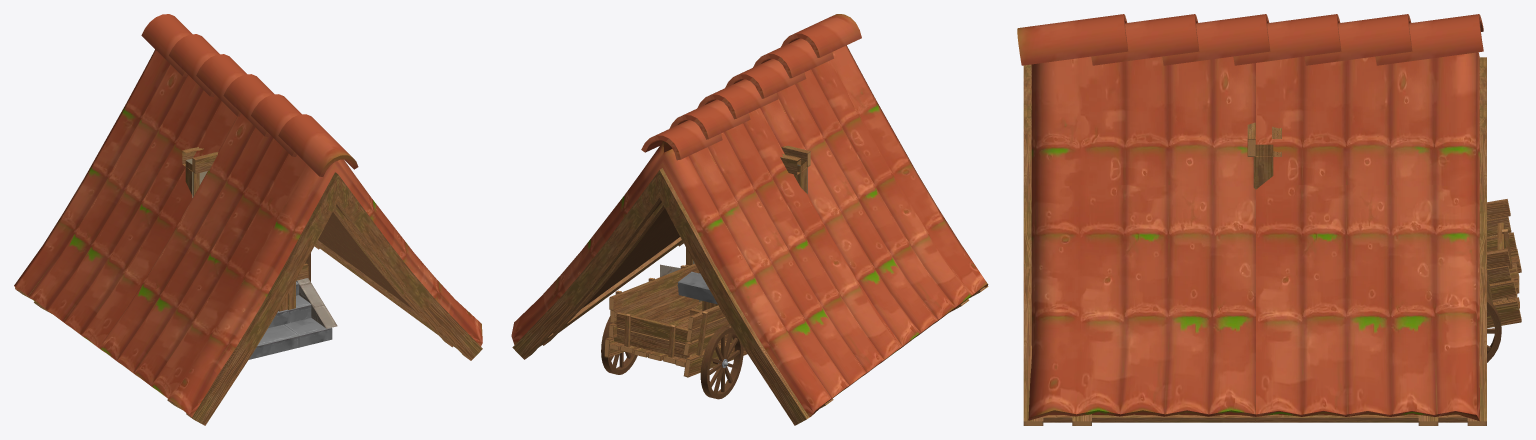
Rendered from sherwood-village-slice.glb.
3 views of the same model, side by side, from view 1: azimuth 30°, elevation 25°; view 2: azimuth 150°, elevation 25°; view 3: azimuth 270°, elevation 25° (orthographic). The views are drawn at different scales.
Parts seen in each view (by area): view 1: Roof_RoundTiles_4x4, Stairs_Exterior_Straight, Wall_Plaster_WoodGrid; view 2: Roof_RoundTiles_4x4, Prop_Wagon, Stairs_Exterior_Straight, Wall_Plaster_WoodGrid; view 3: Roof_RoundTiles_4x4, Prop_Wagon, Wall_Plaster_WoodGrid.
Part boxes in pixels (x1,y1,x2,y2): Roof_RoundTiles_4x4: (14, 14, 482, 425); Stairs_Exterior_Straight: (249, 278, 337, 359); Wall_Plaster_WoodGrid: (182, 147, 308, 280); Roof_RoundTiles_4x4: (511, 14, 988, 425); Prop_Wagon: (601, 263, 747, 399); Stairs_Exterior_Straight: (660, 264, 717, 304); Wall_Plaster_WoodGrid: (685, 146, 809, 301); Roof_RoundTiles_4x4: (1017, 14, 1486, 425); Prop_Wagon: (1487, 199, 1521, 362); Wall_Plaster_WoodGrid: (1247, 122, 1281, 189).
Bounding box in the file's own units: 5.51 × 4.25 × 5.97.
7 materials, 6 textured.
